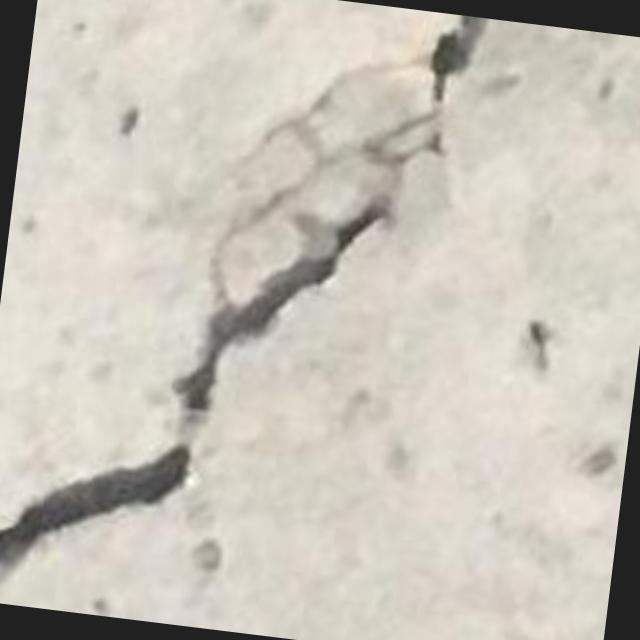crack: (175, 15, 486, 430)
